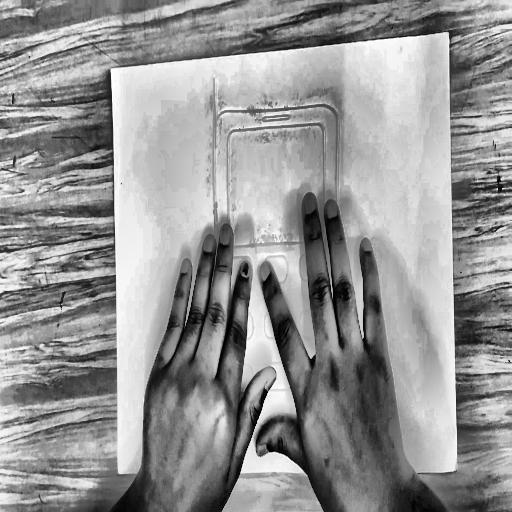bottom_left: (115, 468, 121, 478)
bottom_right: (452, 462, 461, 476)
mobile: (207, 58, 349, 445)
top_left: (108, 63, 114, 74)
top_right: (446, 27, 452, 38)
